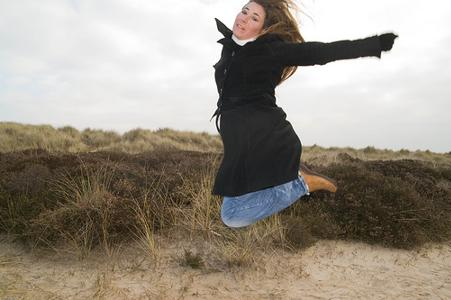person: (213, 2, 402, 230)
